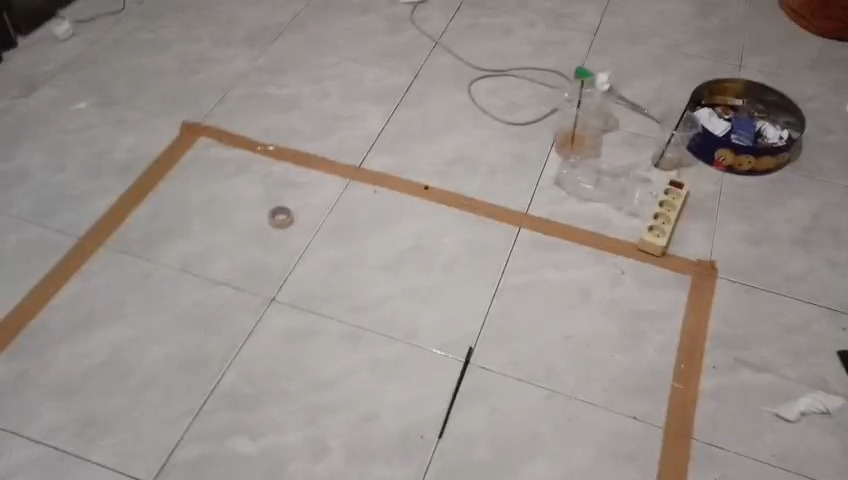floor marking: (0, 124, 717, 479)
